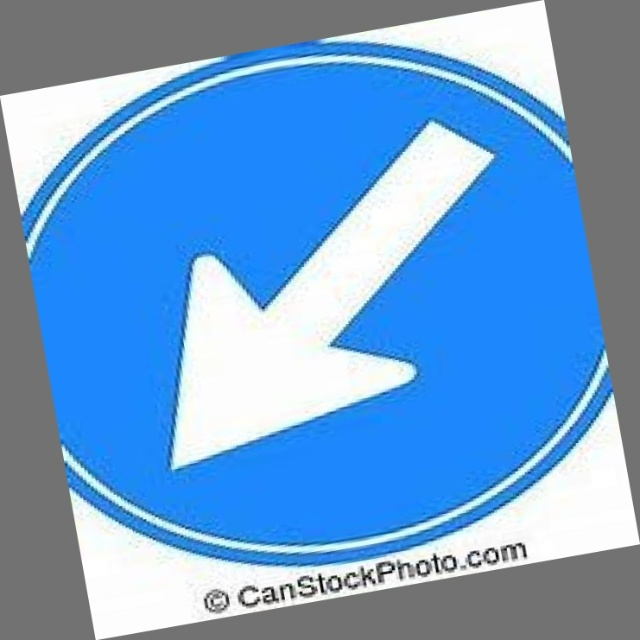R.301e: (0, 0, 631, 606)
